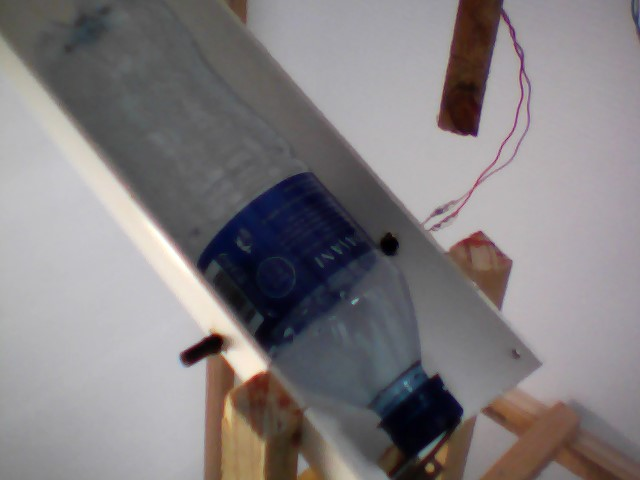plastico: (29, 1, 468, 461)
